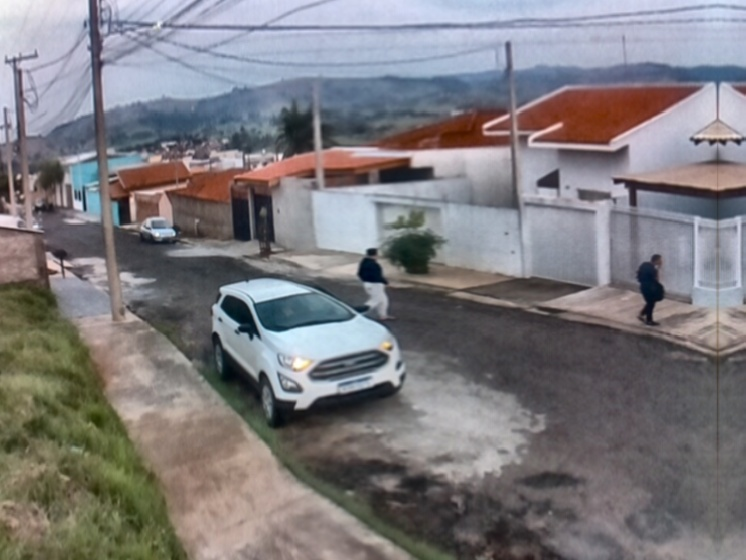person: (354, 246, 399, 323), (636, 253, 668, 323)
